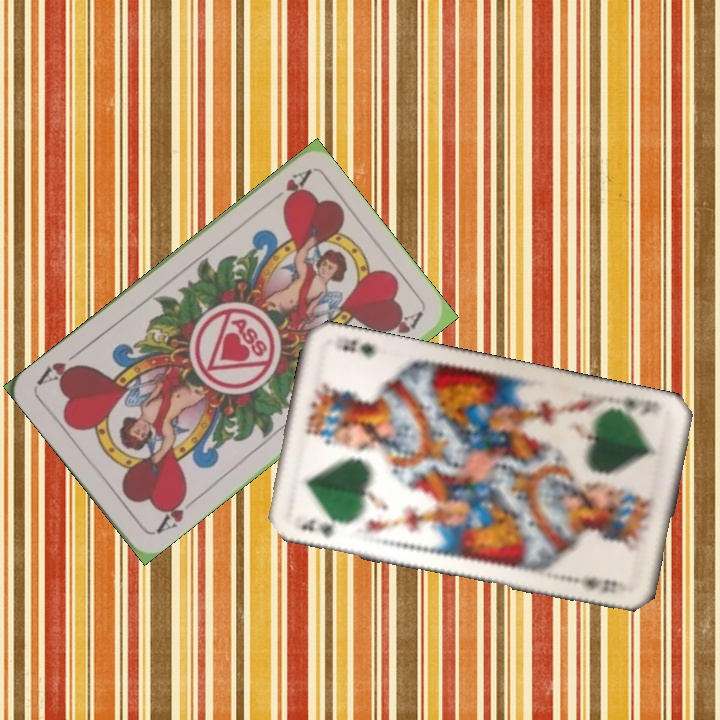GK: (296, 515, 335, 540), (625, 394, 659, 418)
HA: (150, 487, 199, 537), (261, 166, 313, 208)
